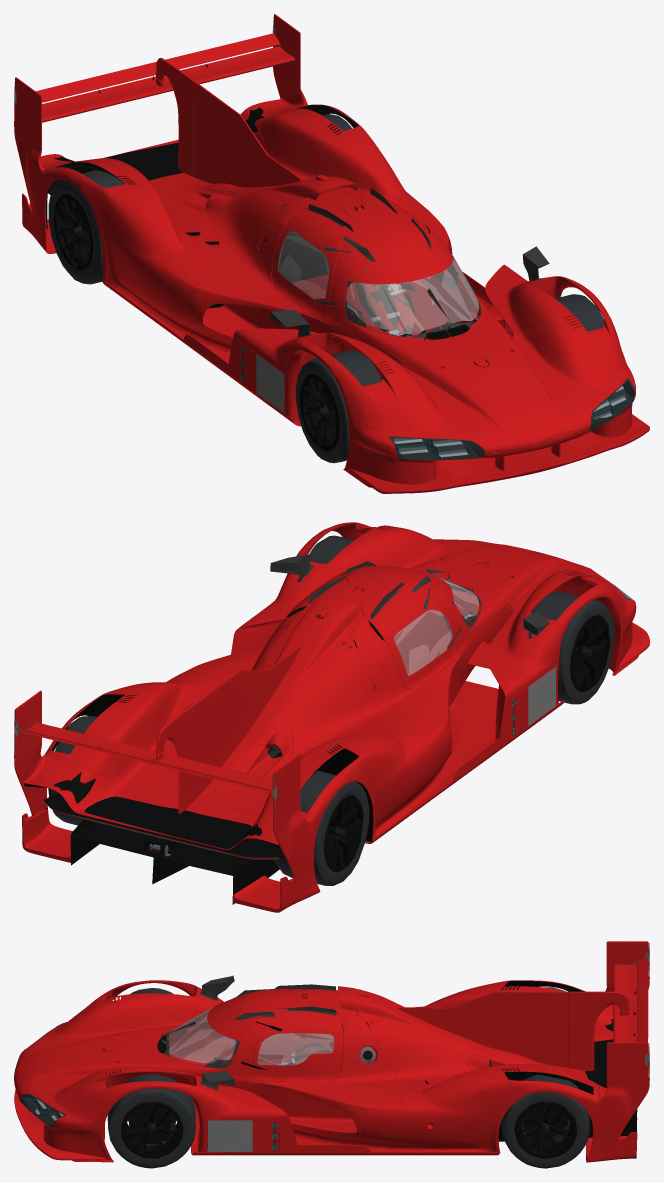
File: porsche-963_versionb.obj
3 views of the same model, one above another, from view 1: azimuth 30°, elevation 25°; view 2: azimuth 150°, elevation 25°; view 3: azimuth 270°, elevation 25° (orthographic). The views are drawn at different scales.
Visible parts, largest first — view 1: BODY, GLASS, WHEEL_RF, WHEEL_RR, WHEEL_LF; view 2: BODY, WHEEL_RF, WHEEL_RR, GLASS, WHEEL_LF, WHEEL_LR; view 3: BODY, WHEEL_LF, WHEEL_LR, GLASS.
Boxes of the visible parts, bbox=[...] form: BODY: bbox=[14, 14, 649, 493]; GLASS: bbox=[14, 16, 634, 459]; WHEEL_RF: bbox=[295, 350, 381, 463]; WHEEL_RR: bbox=[48, 170, 124, 284]; WHEEL_LF: bbox=[555, 294, 604, 331]; BODY: bbox=[14, 522, 649, 912]; WHEEL_RF: bbox=[532, 592, 614, 704]; WHEEL_RR: bbox=[274, 770, 369, 885]; GLASS: bbox=[14, 574, 632, 859]; WHEEL_LF: bbox=[309, 535, 354, 563]; WHEEL_LR: bbox=[48, 716, 97, 825]; BODY: bbox=[14, 941, 649, 1162]; WHEEL_LF: bbox=[107, 1074, 195, 1168]; WHEEL_LR: bbox=[501, 1074, 589, 1168]; GLASS: bbox=[20, 942, 649, 1126].
Size of the model in its own units: 1.99 by 1.09 by 5.
